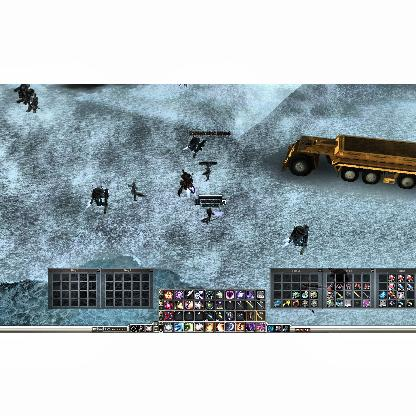caliana: (128, 182, 146, 200), (202, 163, 212, 179)
